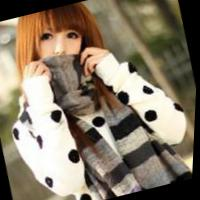WRONG: (28, 12, 93, 82)
